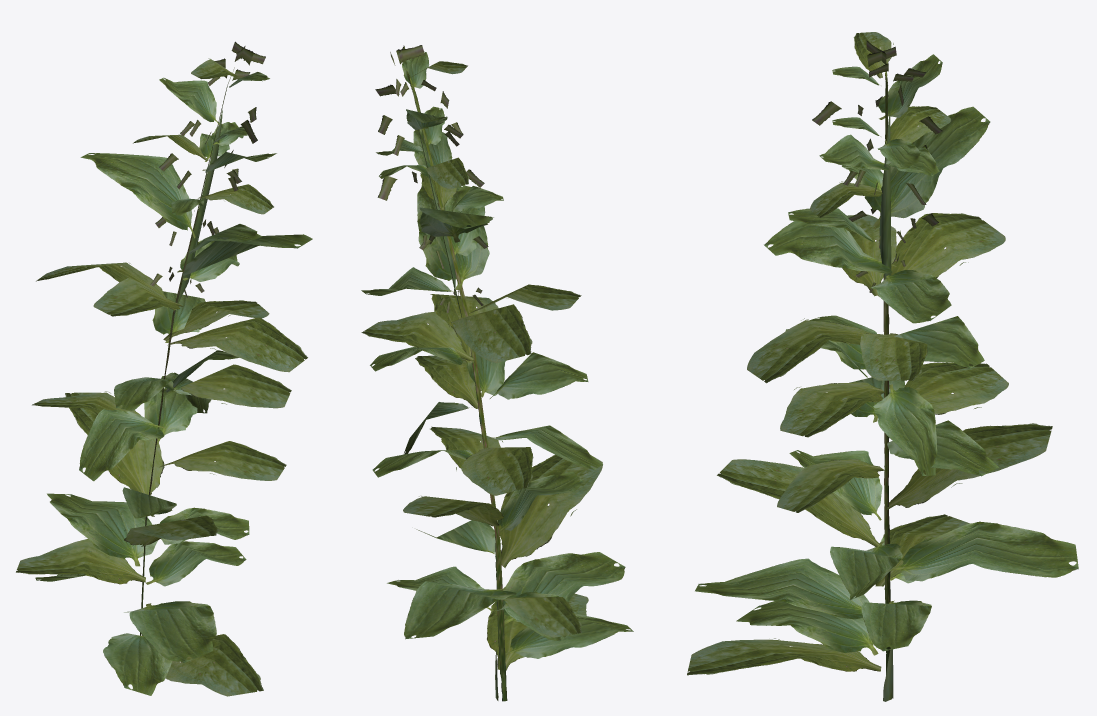
File: nettle02.FBX
3 renders of one model, left to right at view 1: azimuth 30°, elevation 25°; view 2: azimuth 150°, elevation 25°; view 3: azimuth 270°, elevation 25°, orthographic. The views are drawn at different scales.
Visible parts, largest first — view 1: nettle02; view 2: nettle02; view 3: nettle02.
Boxes of the visible parts, left/top/right/bottom form: nettle02: left=16, top=41, right=312, bottom=696; nettle02: left=361, top=45, right=633, bottom=701; nettle02: left=687, top=32, right=1078, bottom=701.
Bounding box in the file's own units: 7.71 × 19.23 × 9.38.
